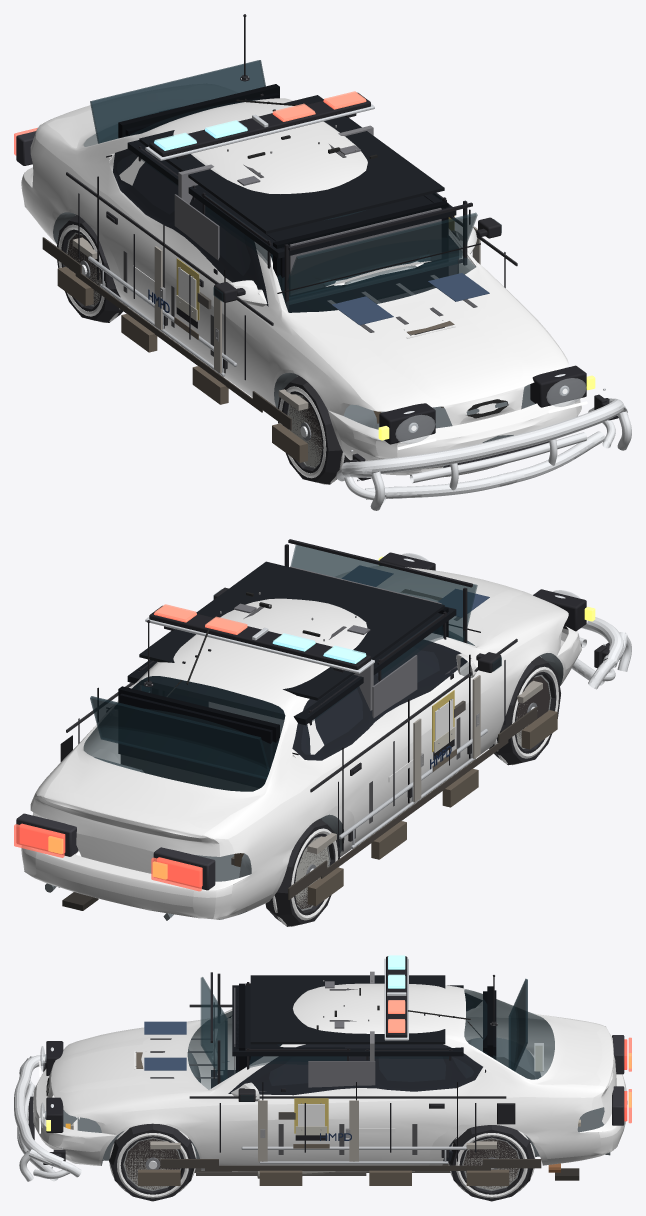
The model's file is hmpd_cruiser_v12b.glb.
The picture shows the model from 3 angles, top to bottom: view 1: azimuth 30°, elevation 25°; view 2: azimuth 150°, elevation 25°; view 3: azimuth 270°, elevation 25°; orthographic projection. The views are drawn at different scales.
Parts seen in each view (by area): view 1: Body.002, v11_int_head, windshield_v10, v12_grimeglass_0, rearglass_v10, interior_occ_head, pushbar_upper, interior_occ2_ws, pushbar_lower, lightbar_shell, Wheel_FR.007, hl_house_1 (+23 smaller); view 2: Body.002, v11_int_head, rearglass_v10, windshield_v10, interior_occ_head, interior_occ2_rg, lightbar_shell, Wheel_RR.005, Wheel_FR.007, v11_occ_rg, v12_grimeglass_1, seat_rear_back (+30 smaller); view 3: Body.002, v11_int_head, interior_occ_head, Wheel_FL.006, Wheel_RL.005, windshield_v10, v12_grimeglass_2, dirt_rocker_1, pushbar_upper, rearglass_v10, dirt_brakedust_Wheel_FL.006, dirt_brakedust_Wheel_RL.005 (+31 smaller).
Part boxes in pixels (bbox=[...]): Body.002: bbox=[21, 84, 581, 477]; v11_int_head: bbox=[139, 95, 444, 234]; windshield_v10: bbox=[282, 212, 477, 299]; v12_grimeglass_0: bbox=[289, 208, 441, 294]; rearglass_v10: bbox=[90, 60, 265, 143]; interior_occ_head: bbox=[127, 140, 456, 258]; pushbar_upper: bbox=[341, 398, 623, 476]; interior_occ2_ws: bbox=[280, 208, 447, 312]; pushbar_lower: bbox=[365, 431, 604, 499]; lightbar_shell: bbox=[149, 92, 370, 156]; Wheel_FR.007: bbox=[278, 375, 350, 484]; hl_house_1: bbox=[530, 365, 586, 407]; Body.002: bbox=[21, 566, 581, 920]; v11_int_head: bbox=[139, 561, 444, 700]; rearglass_v10: bbox=[90, 696, 269, 779]; windshield_v10: bbox=[290, 545, 477, 642]; interior_occ_head: bbox=[127, 606, 456, 725]; interior_occ2_rg: bbox=[119, 693, 272, 786]; lightbar_shell: bbox=[149, 605, 370, 669]; Wheel_RR.005: bbox=[265, 819, 340, 926]; Wheel_FR.007: bbox=[489, 656, 560, 765]; v11_occ_rg: bbox=[118, 686, 279, 788]; v12_grimeglass_1: bbox=[372, 655, 417, 718]; seat_rear_back: bbox=[120, 754, 259, 791]; Body.002: bbox=[33, 983, 627, 1171]; v11_int_head: bbox=[250, 975, 445, 1044]; interior_occ_head: bbox=[232, 985, 463, 1056]; Wheel_FL.006: bbox=[109, 1123, 195, 1201]; Wheel_RL.005: bbox=[448, 1125, 534, 1201]; windshield_v10: bbox=[200, 977, 227, 1081]; v12_grimeglass_2: bbox=[308, 1061, 375, 1087]; dirt_rocker_1: bbox=[205, 1165, 490, 1170]; pushbar_upper: bbox=[14, 1055, 64, 1168]; rearglass_v10: bbox=[508, 978, 527, 1071]; dirt_brakedust_Wheel_FL.006: bbox=[125, 1138, 179, 1189]; dirt_brakedust_Wheel_RL.005: bbox=[463, 1138, 518, 1189].
Bounding box in the file's own units: 2.06 × 1.86 × 5.08.
